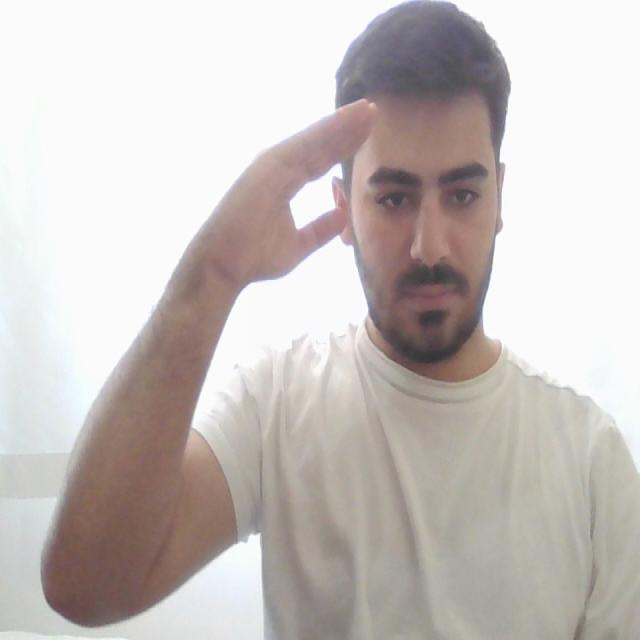Merhaba: (193, 63, 403, 340)
